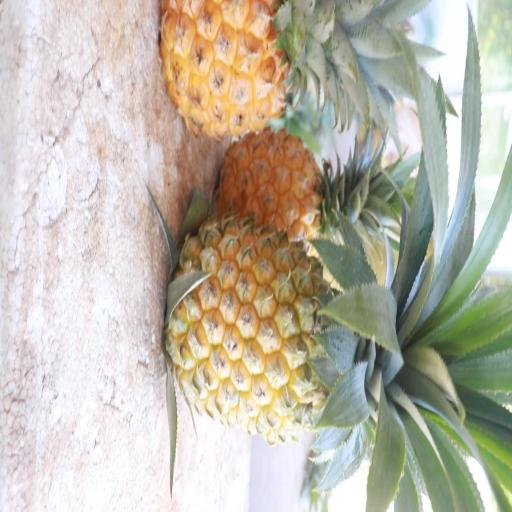Pineapple - v8 v1: (164, 212, 388, 452), (157, 0, 356, 145), (220, 124, 381, 244)
